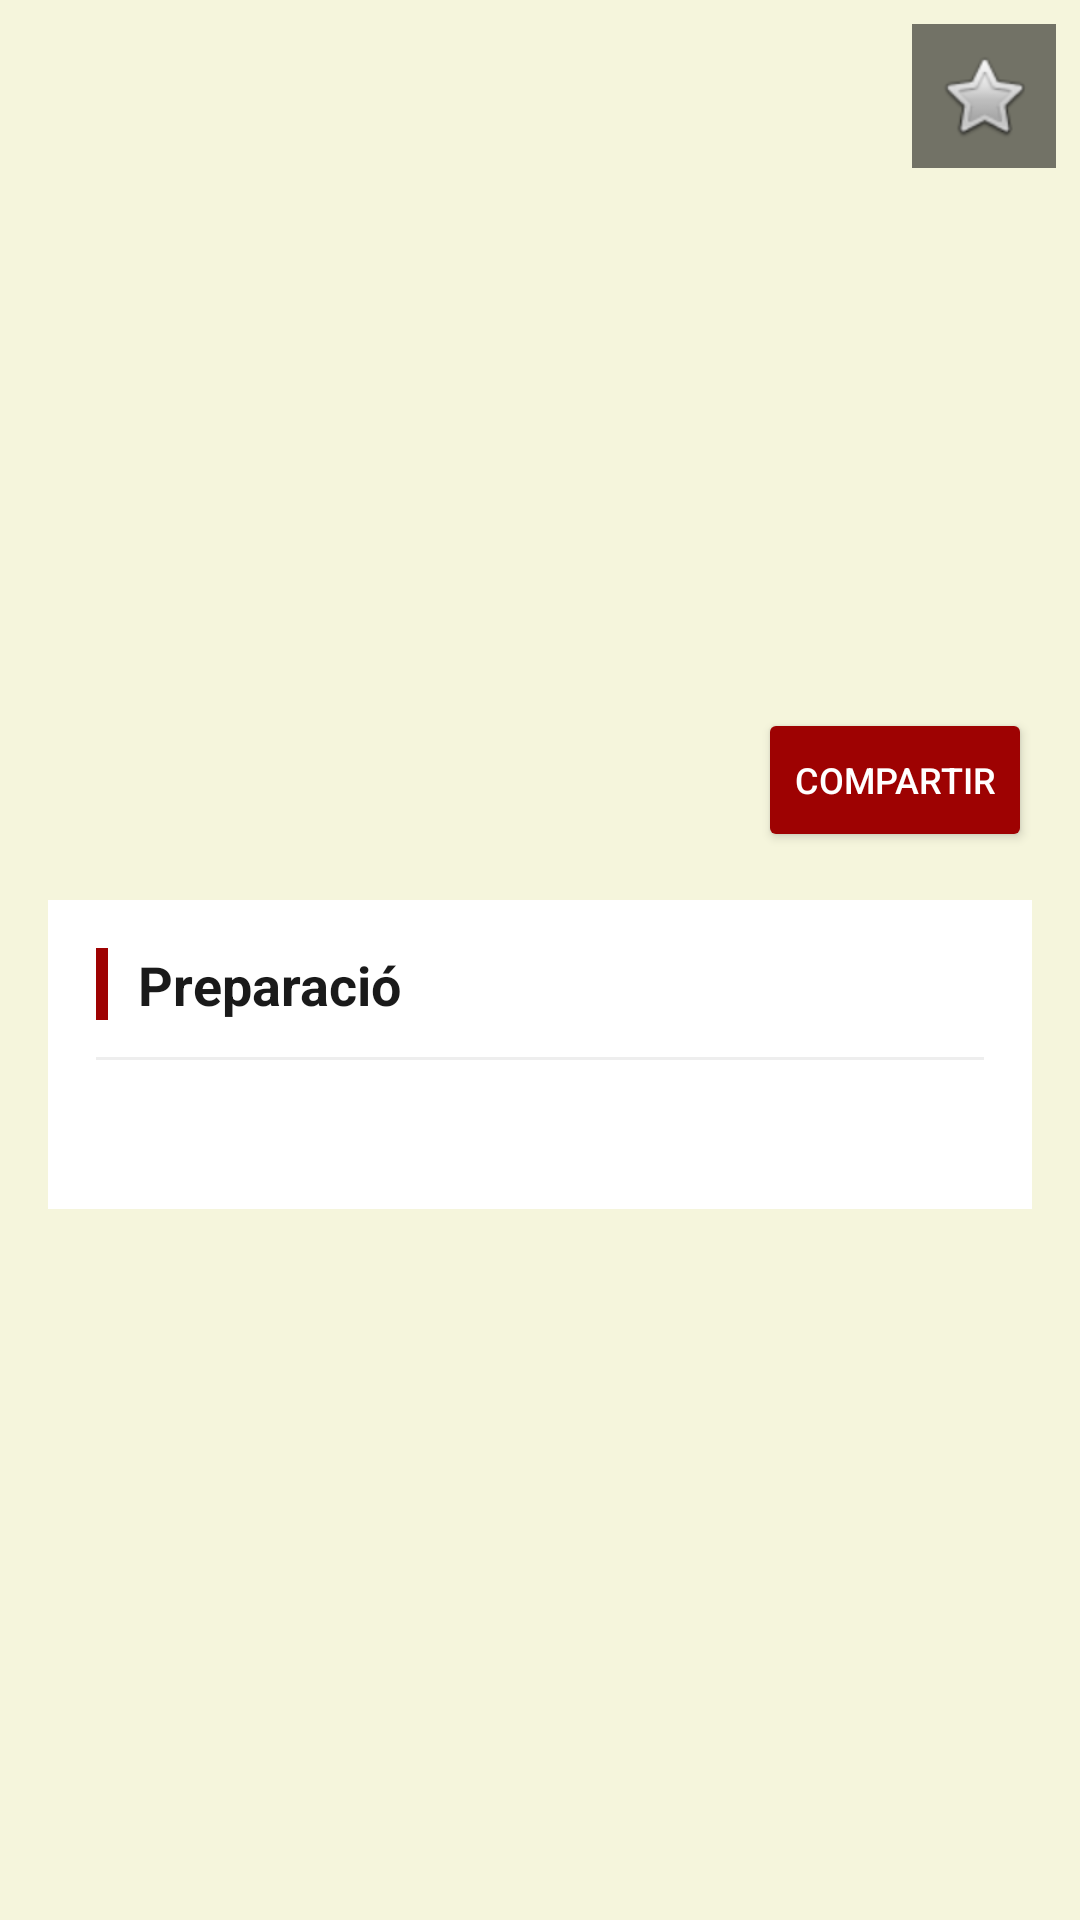

Point at icon controls on the screen. Image size 1080w x 1920h, points as (x=x, y=y).
star off: (x=984, y=96)
